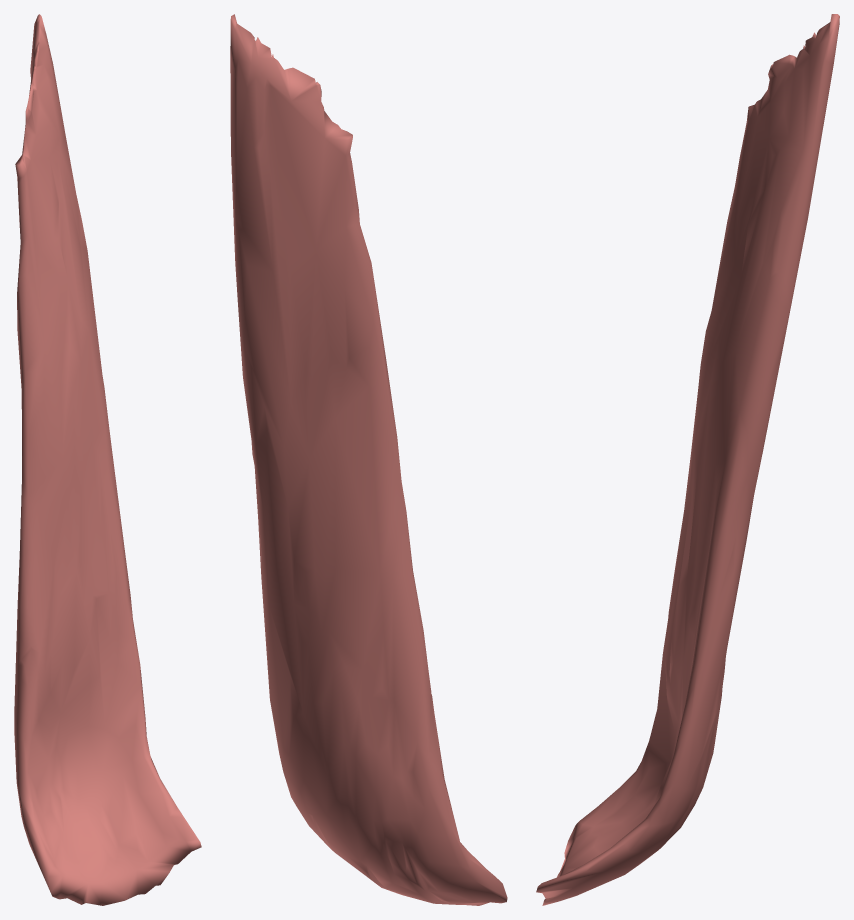
3 views of the same model, side by side, from view 1: azimuth 30°, elevation 25°; view 2: azimuth 150°, elevation 25°; view 3: azimuth 270°, elevation 25° (orthographic). The views are drawn at different scales.
Parts seen in each view (by area): view 1: ZA_4c707356e5129af9; view 2: ZA_4c707356e5129af9; view 3: ZA_4c707356e5129af9.
Boxes of the visible parts, x1,y1,x2,y2 form: ZA_4c707356e5129af9: [14, 14, 201, 905]; ZA_4c707356e5129af9: [230, 14, 507, 905]; ZA_4c707356e5129af9: [536, 14, 839, 905].
Size of the model in its own units: 0.0183 by 0.0988 by 0.0299.
